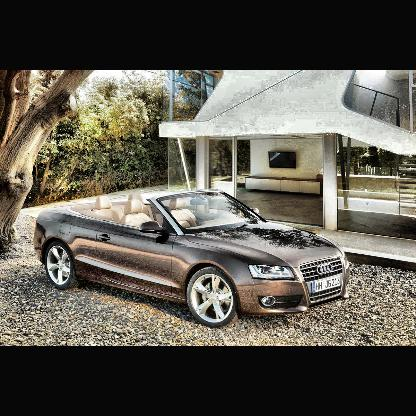Audi S5 Convertible 2012: (33, 187, 352, 329)
